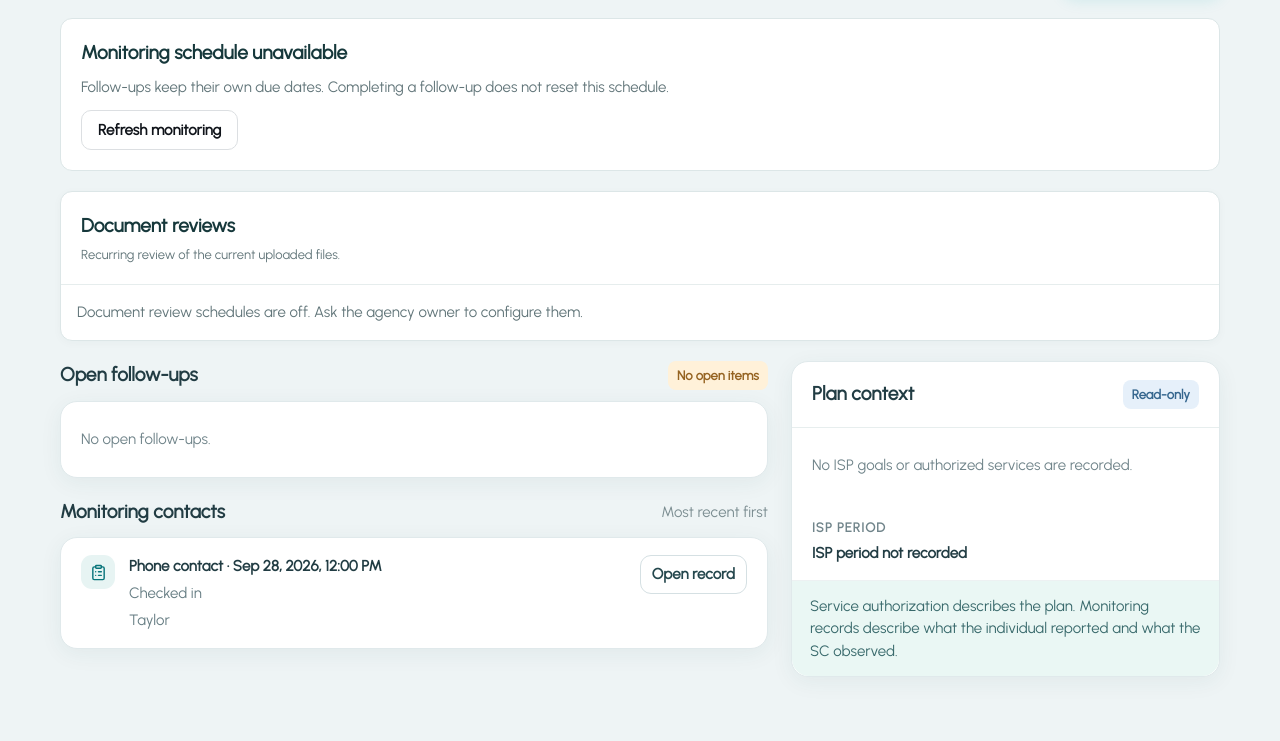
Scenario: shows the saved finding details and distinct action decisions
(page scrolled)
Click the button "Open record": (693, 575) [640,556,747,594]
(page scrolled)
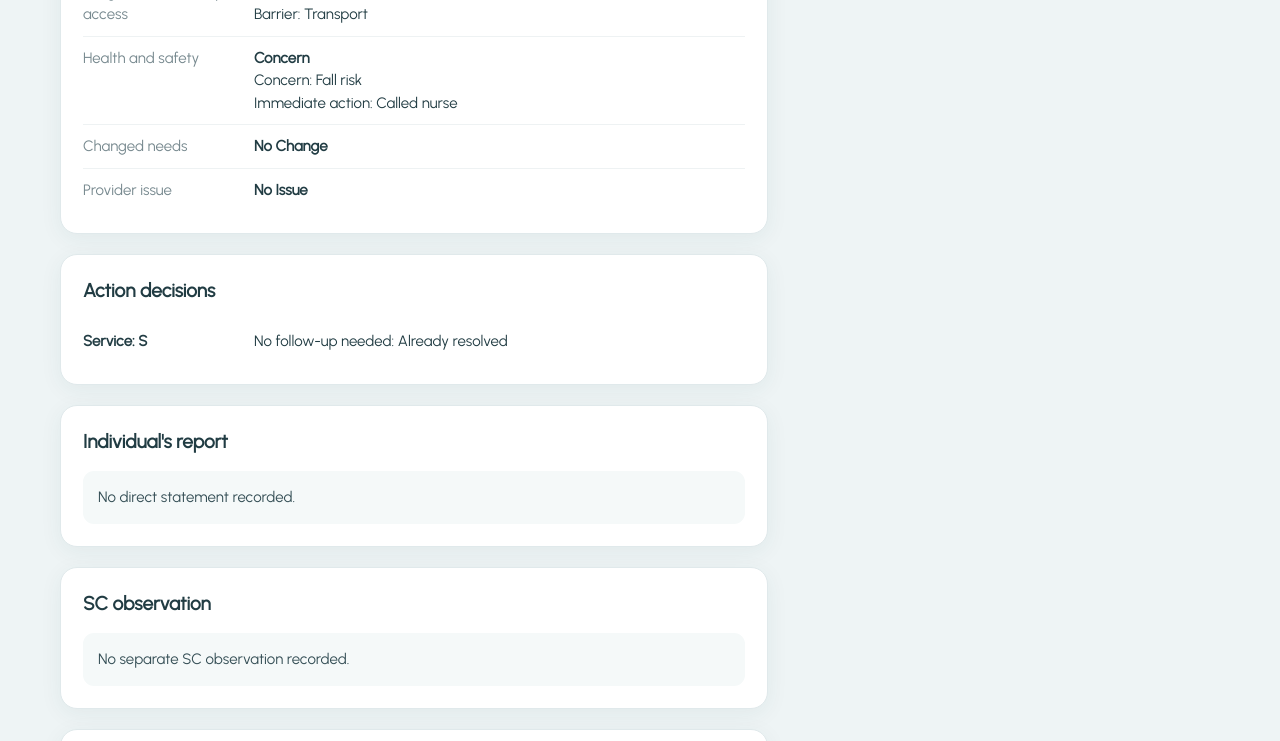
Expected: the text "Barrier: Transport" is shown, [254,5,368,23]
Expected: the text "Immediate action: Called nurse" is shown, [254,94,458,112]
Expected: the text "No follow-up needed: Already resolved" is shown, [254,332,508,350]
